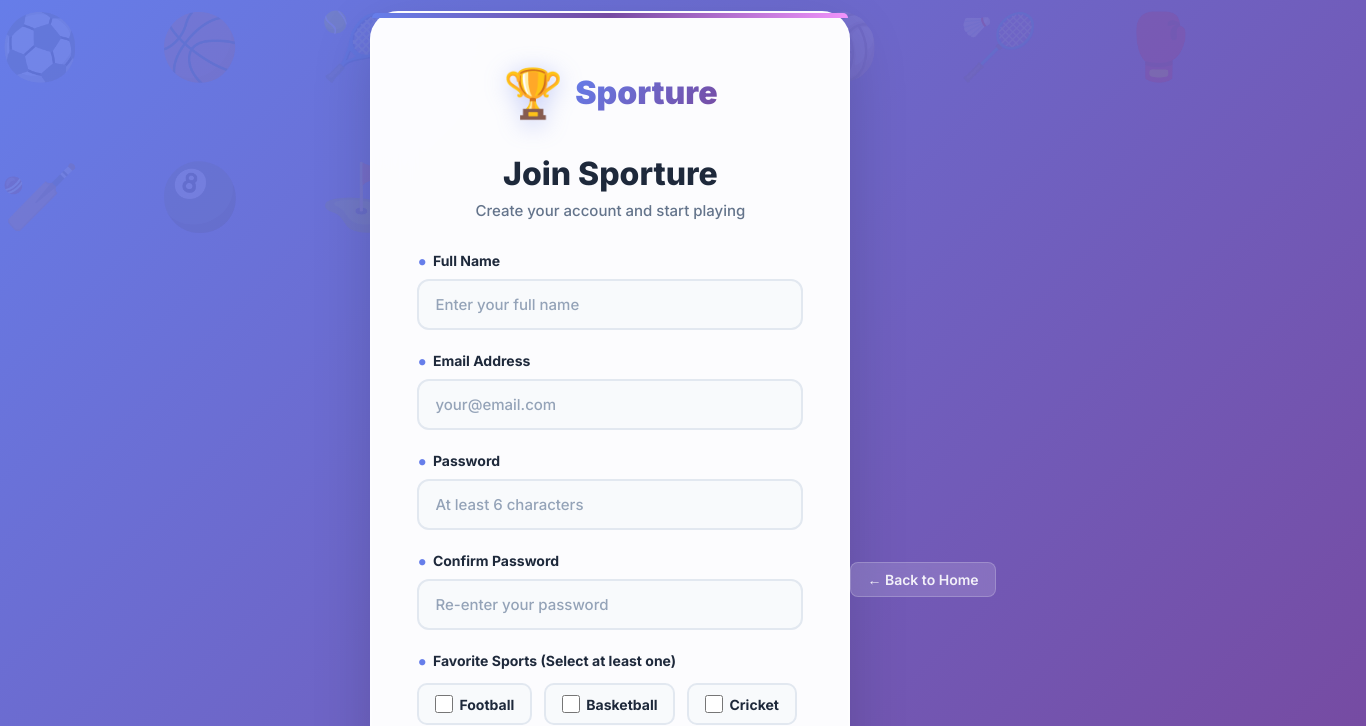
Test: Register › surfaces a duplicate-email rejection
The image size is (1366, 726).
Type "Radha Raman" into the field with placeholder "Enter your full name" at (610, 304), box [417,279,803,330]
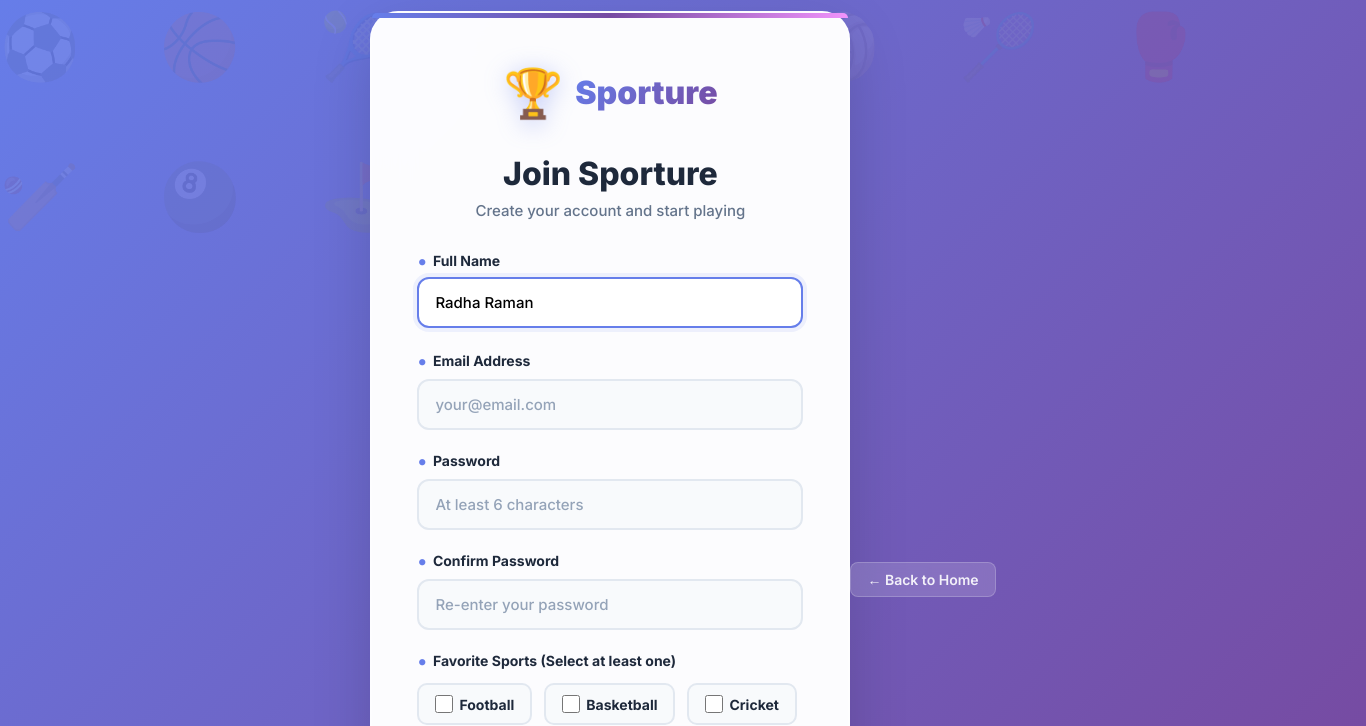
Type "radha@example.com" into the field with placeholder "your@email.com" at (610, 404), box [417,379,803,430]
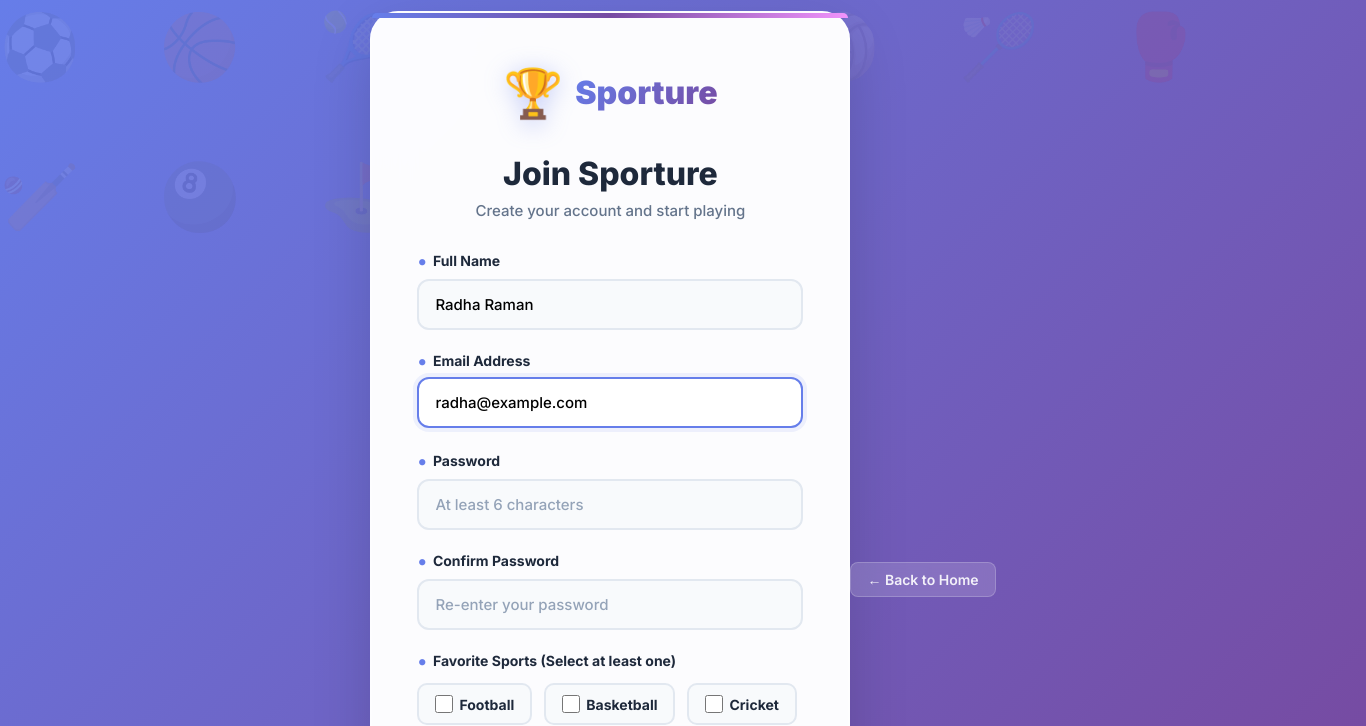
Type "SuperSecret123" into the password field named "password" at (610, 504), box [417,479,803,530]
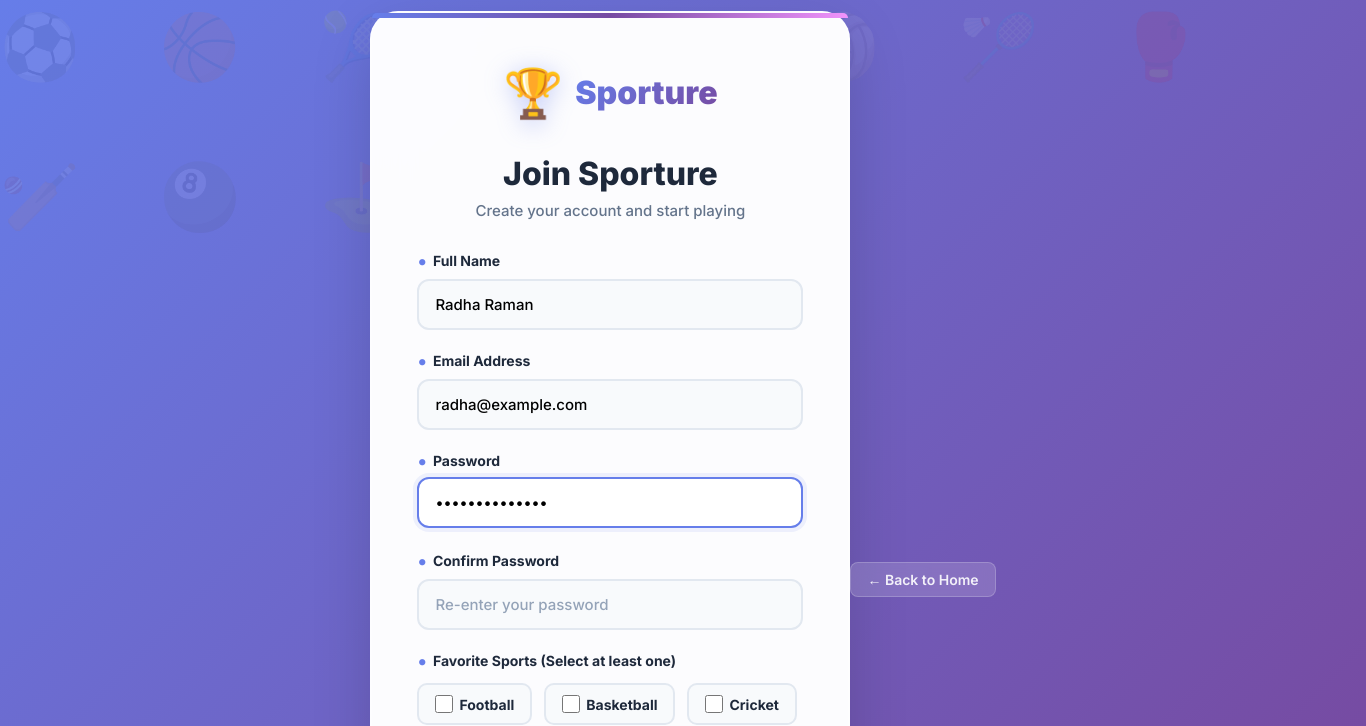
Type "SuperSecret123" into the password field named "confirmPassword" at (610, 604), box [417,579,803,630]
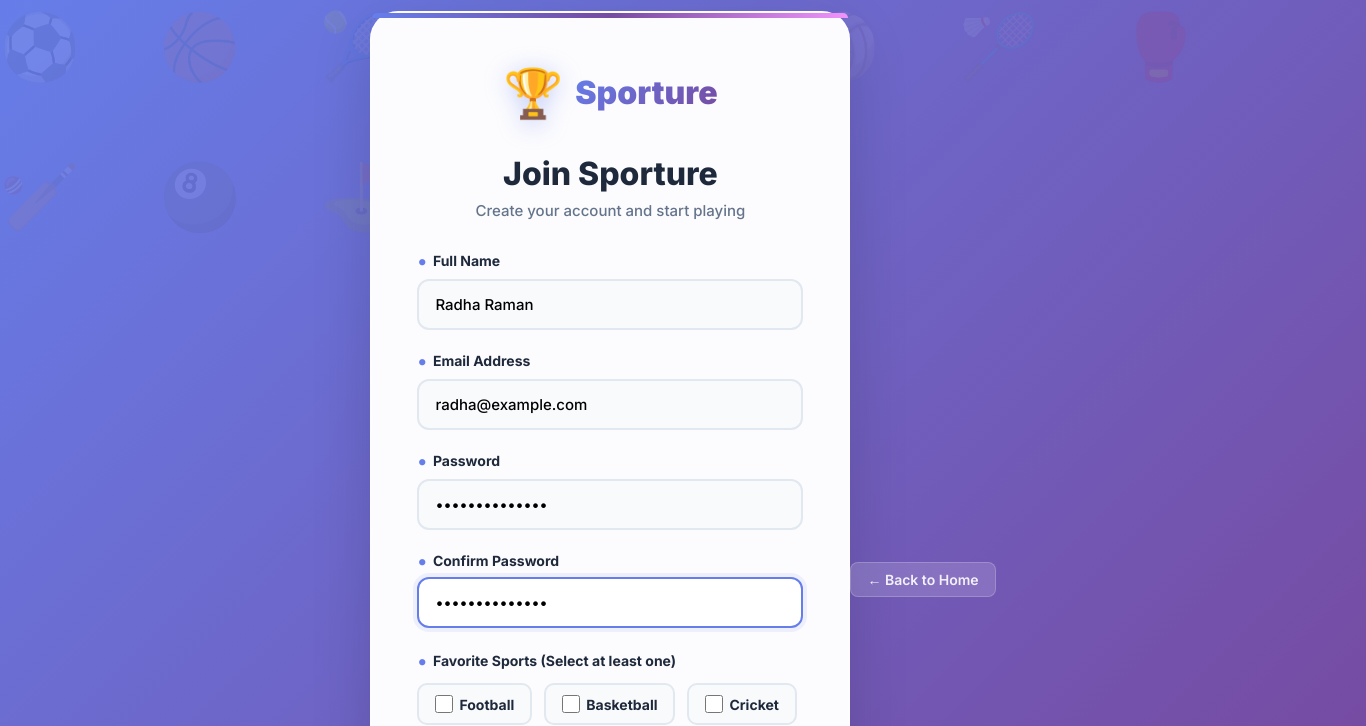
Click the checkbox labelled "Football" at (444, 704), box [435,695,453,713]
(page scrolled)
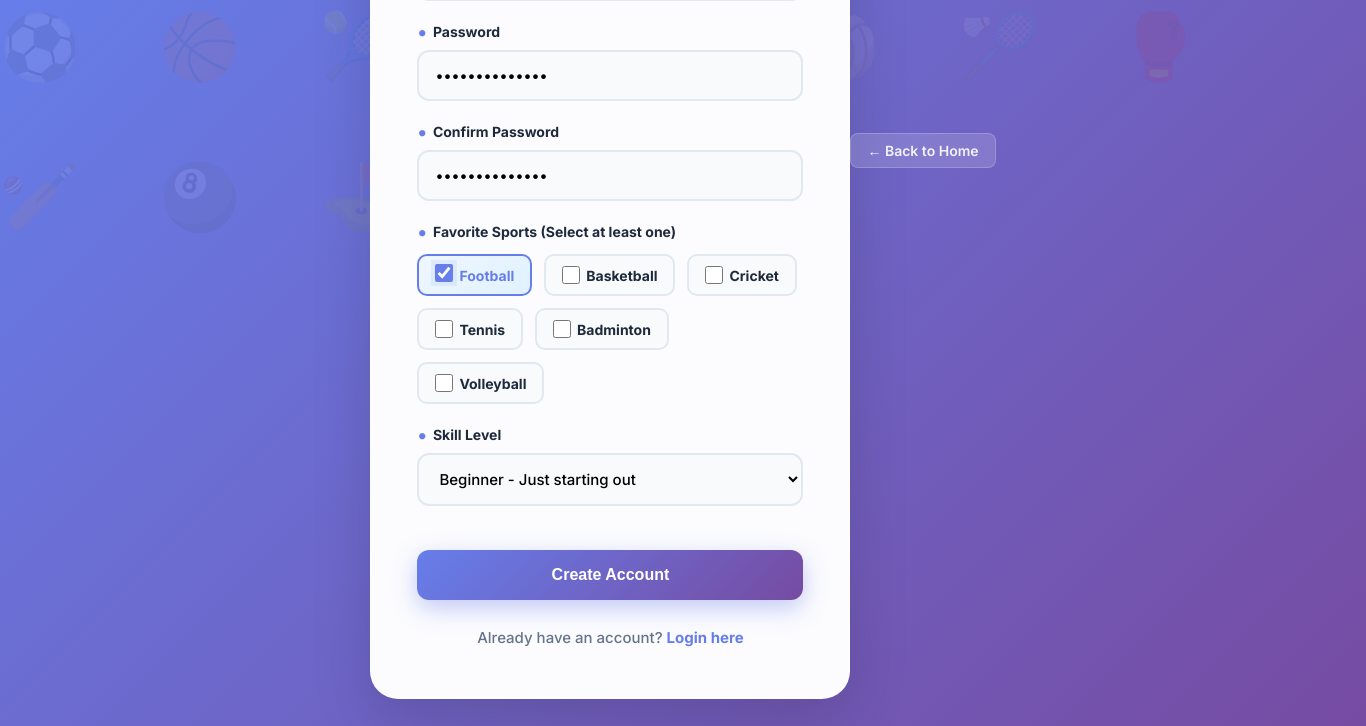
Click the button "Create Account" at (610, 575), box [417,550,803,600]
(page scrolled)
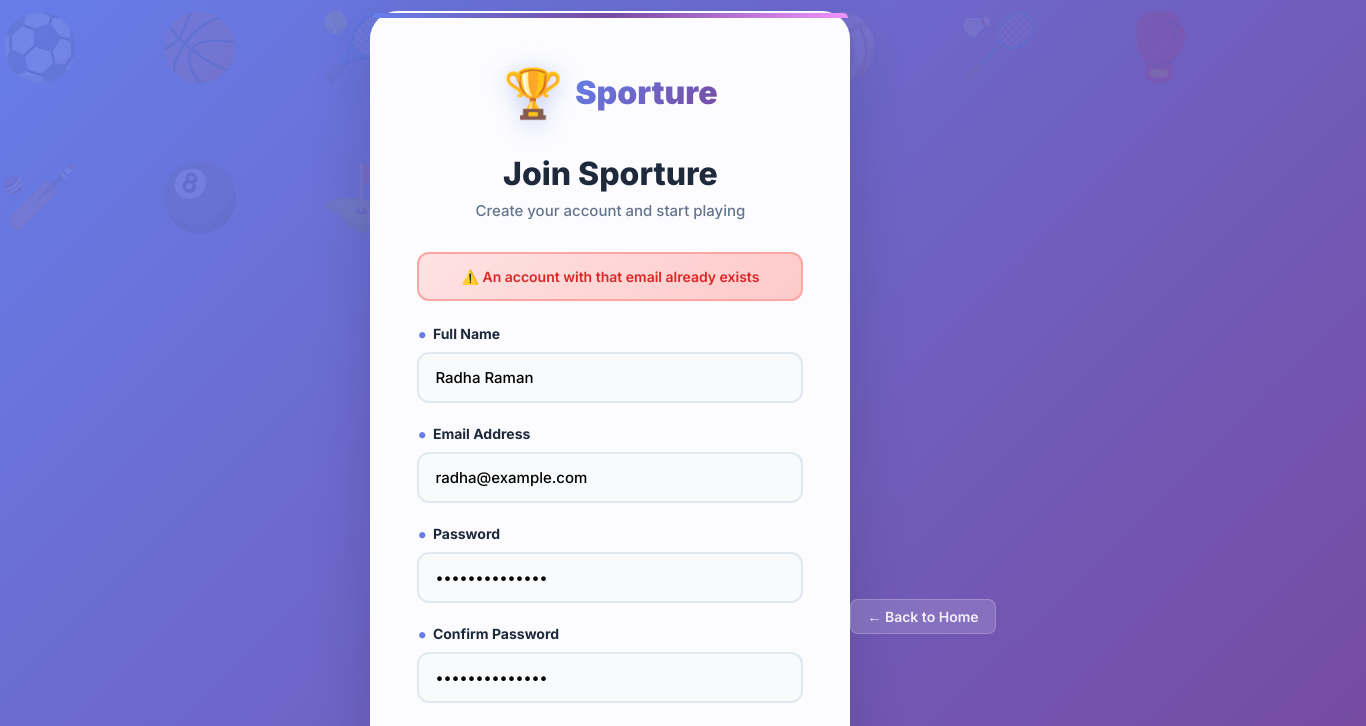
Expected: the text "⚠️ An account with that email already exists" is shown, [417,252,803,301]
